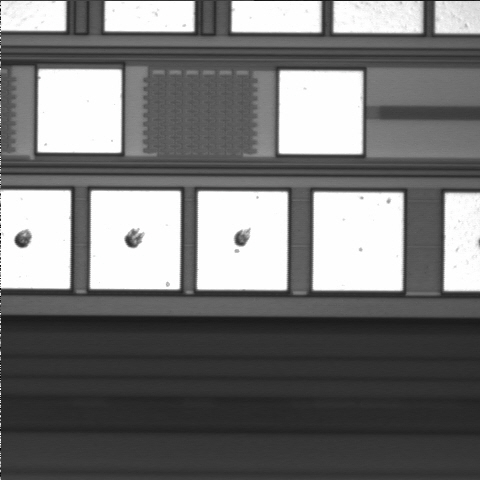pad: (197, 191, 288, 290), (90, 191, 181, 289), (313, 192, 403, 291), (38, 69, 121, 153), (279, 71, 363, 154)
